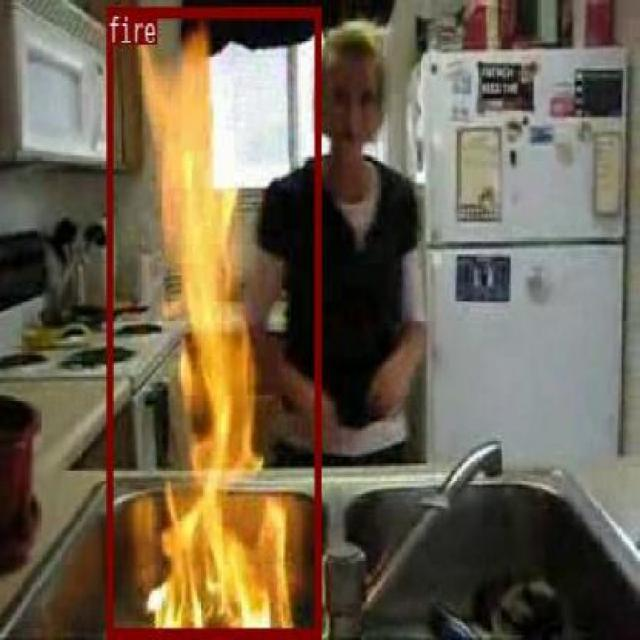fire: (106, 7, 319, 636)
